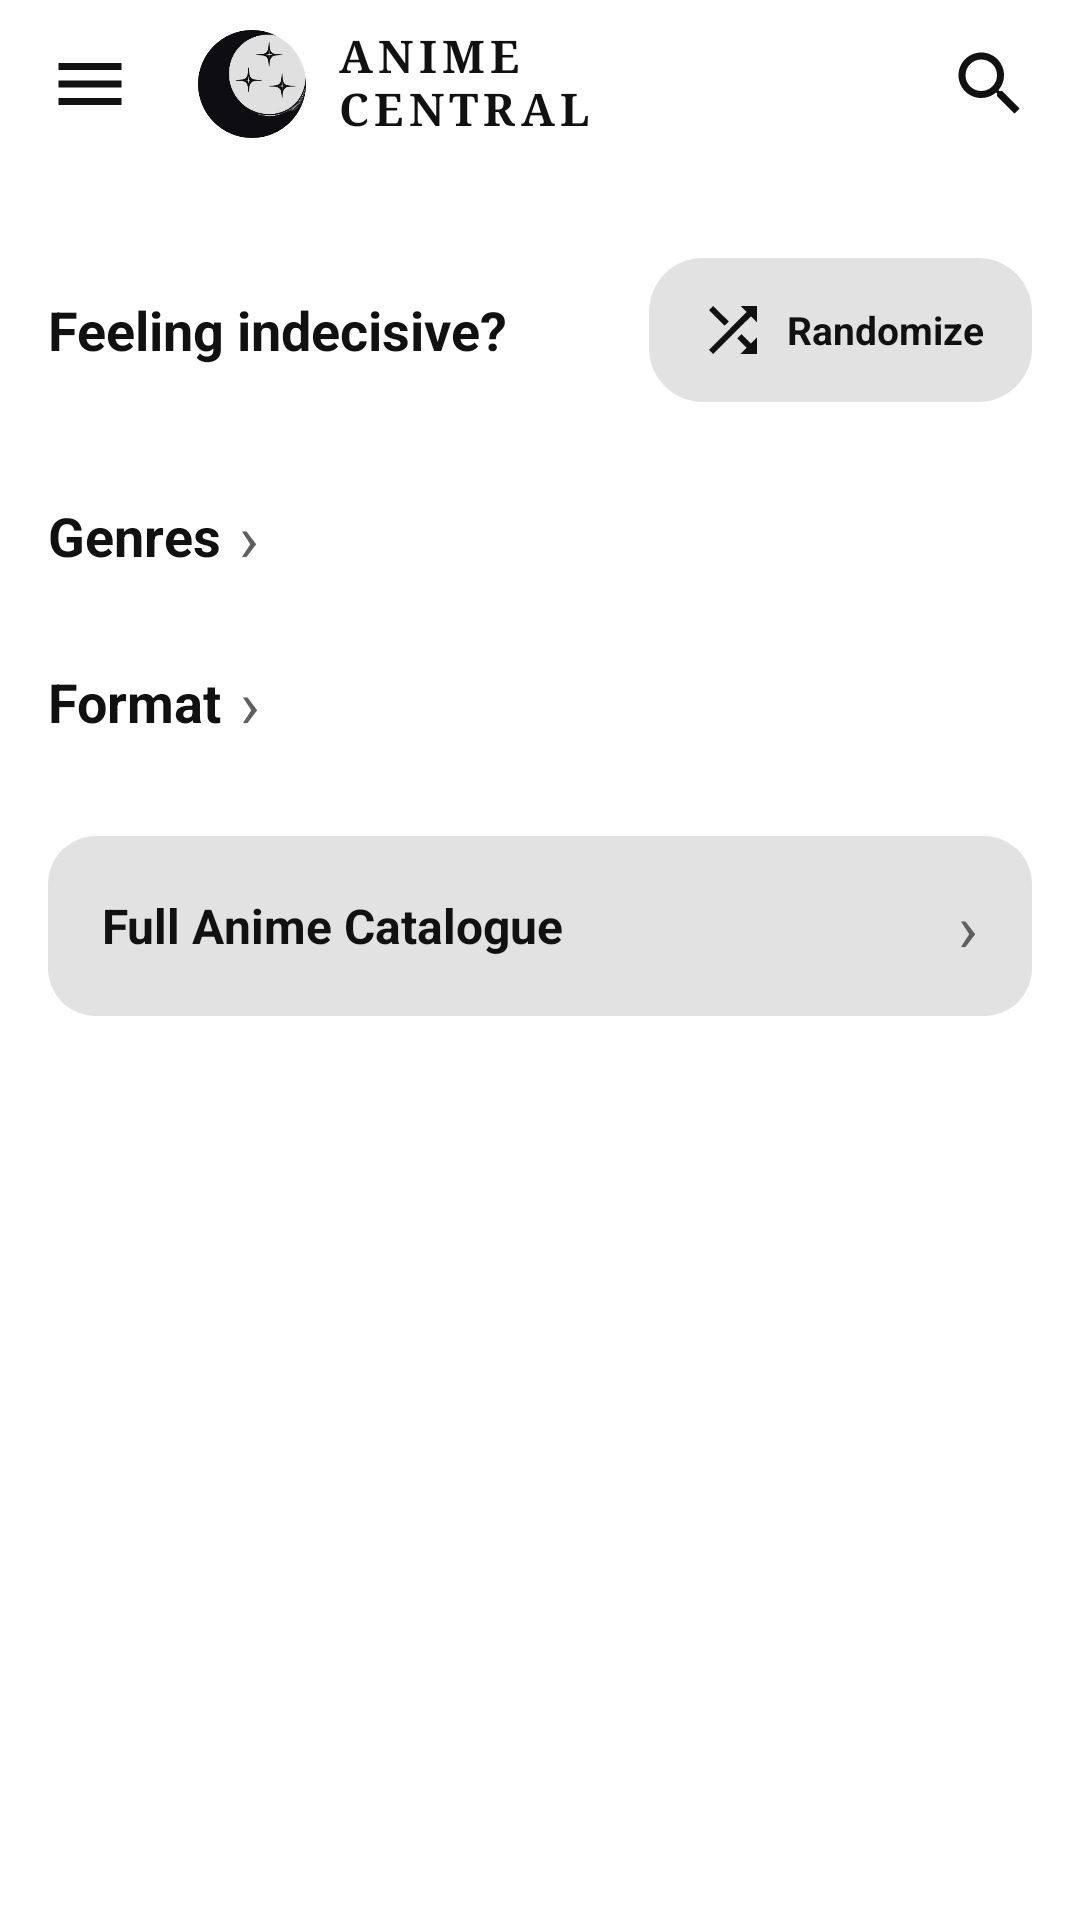

Screen size 1080px×1920px. Icon name, then its center in pixels as (x=x, y=y):
Menu: (x=90, y=84)
Search: (x=989, y=83)
